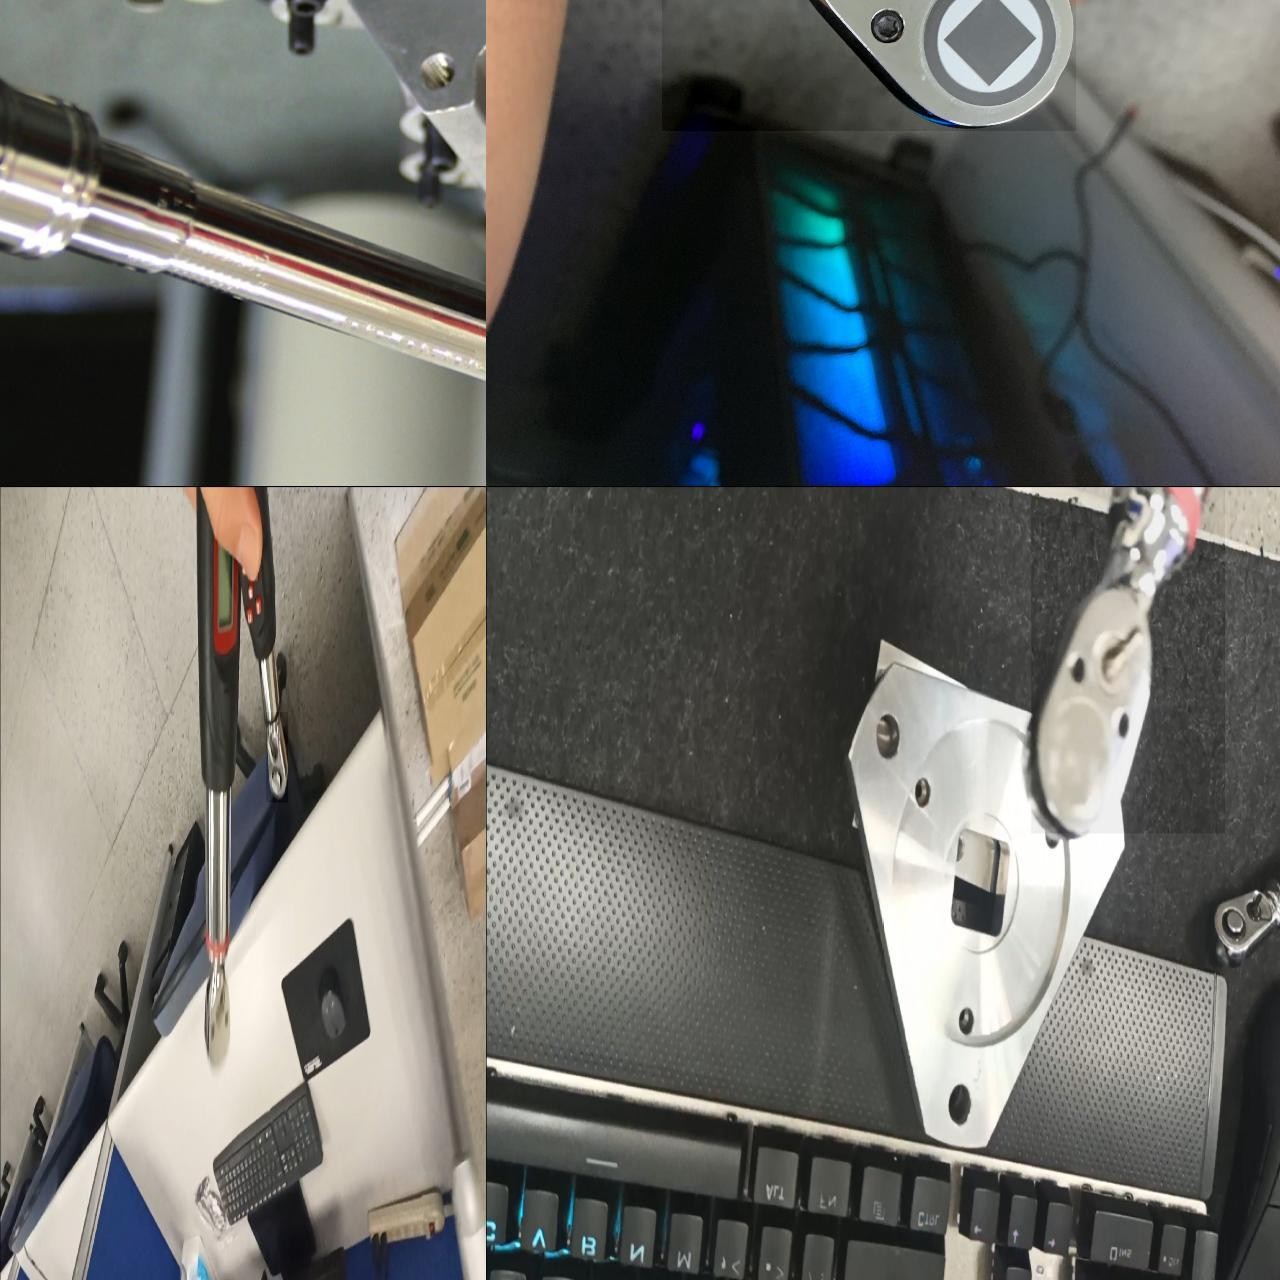Tool: (1030, 486, 1224, 832), (661, 0, 1075, 130), (1208, 856, 1280, 979), (266, 710, 287, 802)
